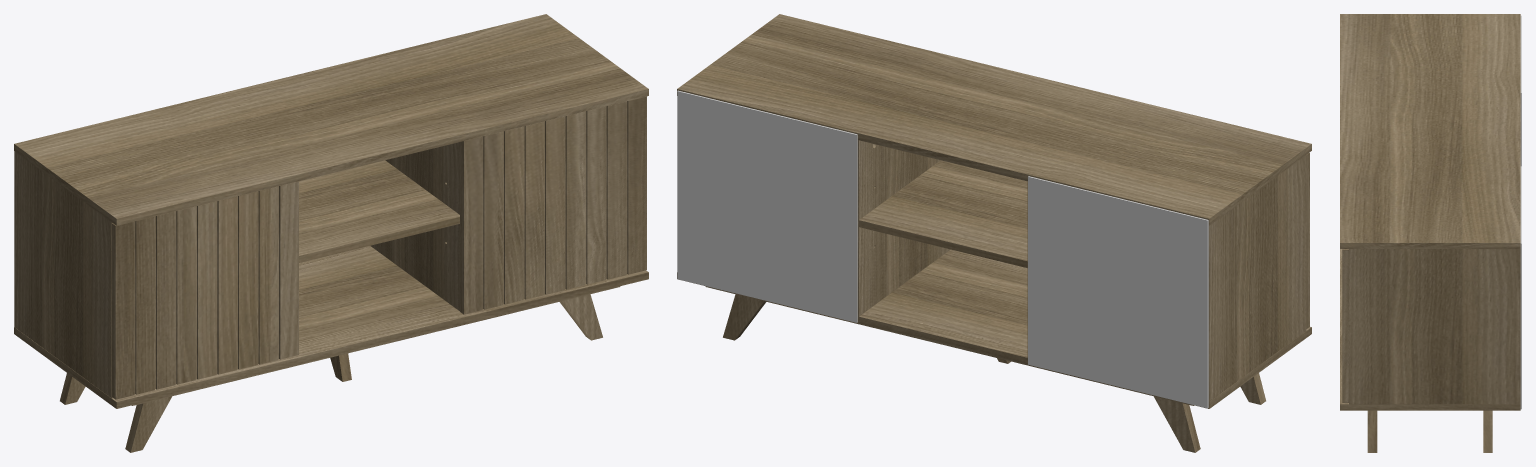
3 renders of one model, left to right at view 1: azimuth 30°, elevation 25°; view 2: azimuth 150°, elevation 25°; view 3: azimuth 270°, elevation 25°, orthographic. The views are drawn at different scales.
Parts seen in each view (by area): view 1: A446251-PISOSXXXPI; view 2: A446251-PISOSXXXPI; view 3: A446251-PISOSXXXPI.
Part boxes in pixels (<box>): A446251-PISOSXXXPI: <box>14,14,648,452</box>; A446251-PISOSXXXPI: <box>677,14,1311,452</box>; A446251-PISOSXXXPI: <box>1340,14,1521,452</box>.
Bounding box in the file's own units: 12 × 5.45 × 4.03.
Materials: 1 (1 with a texture image).
